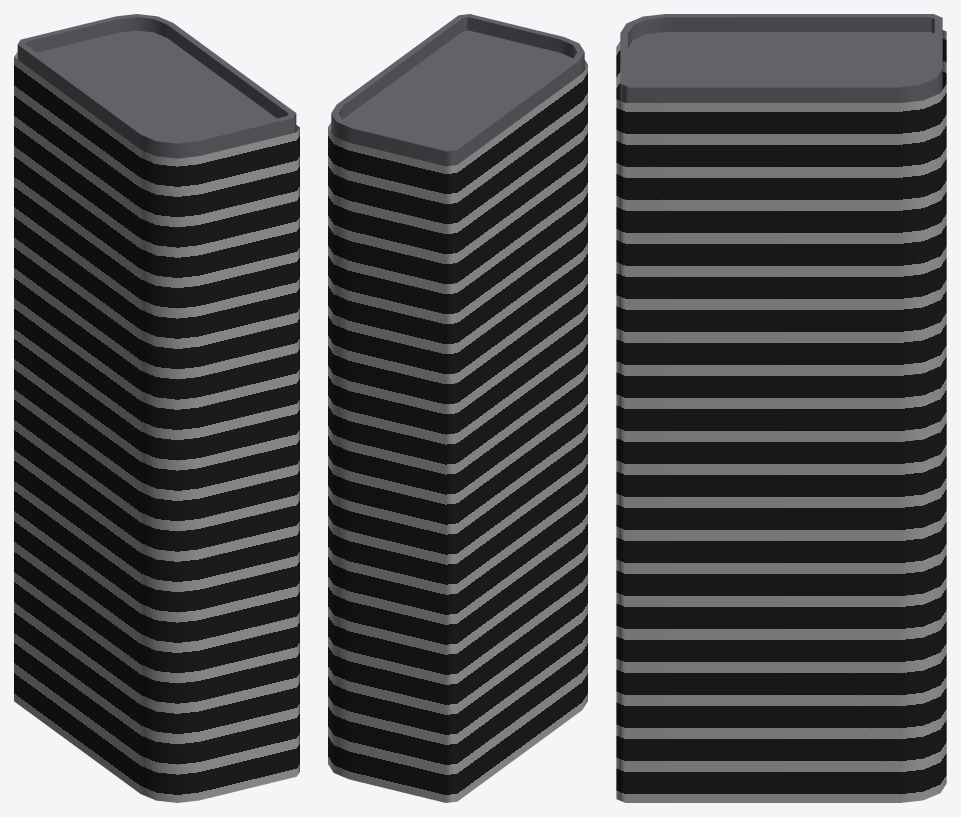
Rendered from Building_BM_1.fbx.
3 renders of one model, left to right at view 1: azimuth 30°, elevation 25°; view 2: azimuth 150°, elevation 25°; view 3: azimuth 270°, elevation 25°, orthographic. The views are drawn at different scales.
Visible parts, largest first — view 1: Building_BM_1; view 2: Building_BM_1; view 3: Building_BM_1.
Boxes of the visible parts, x1,y1,x2,y2 form: Building_BM_1: [14, 14, 299, 802]; Building_BM_1: [328, 14, 587, 802]; Building_BM_1: [616, 14, 946, 802].
Size of the model in its own units: 2524 by 11155 by 4676.
